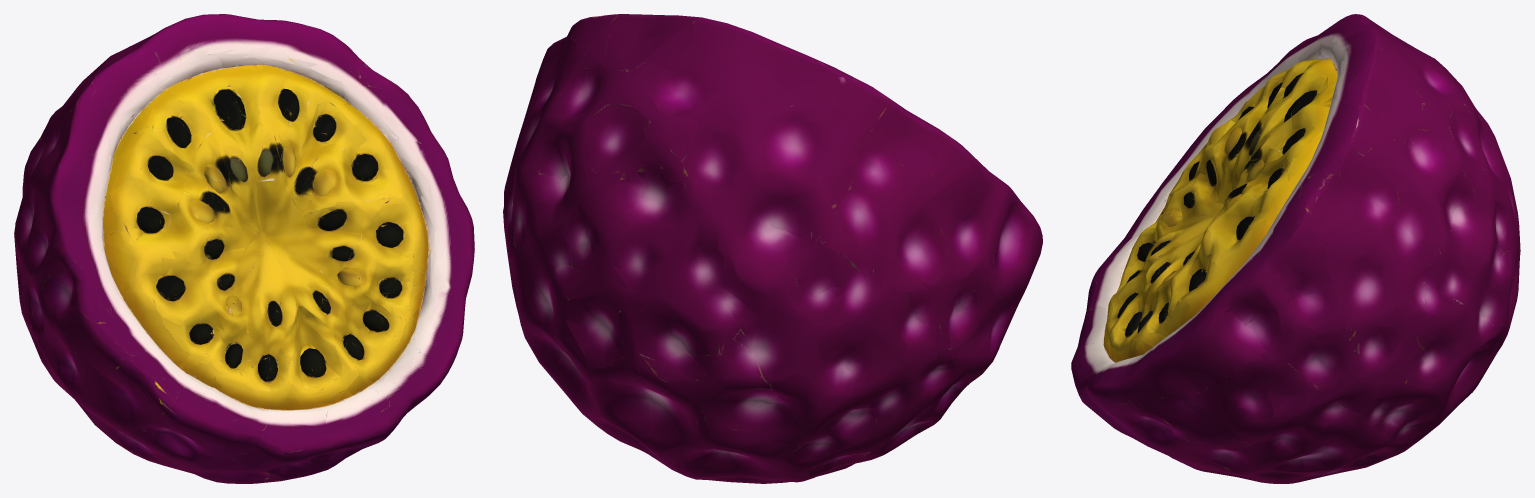
File: fruit-passionfruit.glb
The picture shows the model from 3 angles, left to right: view 1: azimuth 30°, elevation 25°; view 2: azimuth 150°, elevation 25°; view 3: azimuth 270°, elevation 25°; orthographic projection. The views are drawn at different scales.
Bounding box in the file's own units: 1.89 × 1.83 × 1.78.
Materials: 1 (1 with a texture image).
